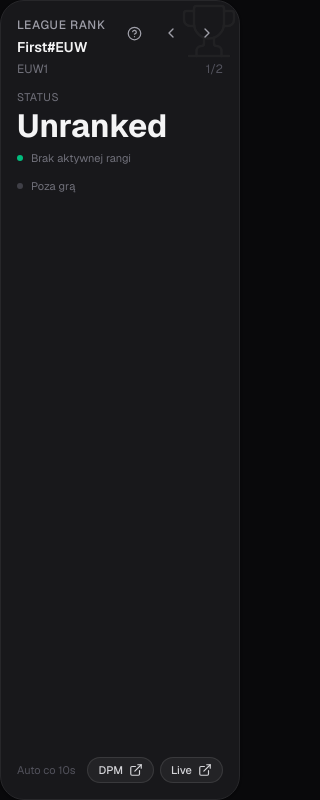
LolRankWidget › switches between multiple accounts
The width and height of the screenshot is (320, 800).
Expected: the heading "First#EUW" is shown, [17, 38, 88, 56]
Click the button named "Następne konto" at (207, 33), box [191, 17, 223, 49]
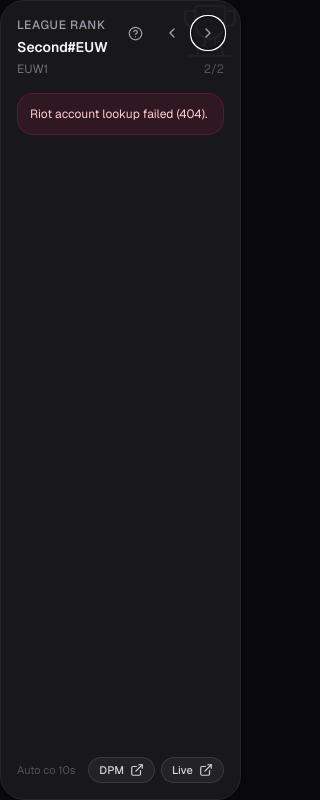
Result: the heading "Second#EUW" is shown at [17, 37, 108, 57]
Result: the text "Riot account lookup failed (404)." is shown at [17, 93, 224, 135]
Click the button named "Poprzednie konto" at (172, 33), box [156, 17, 188, 49]
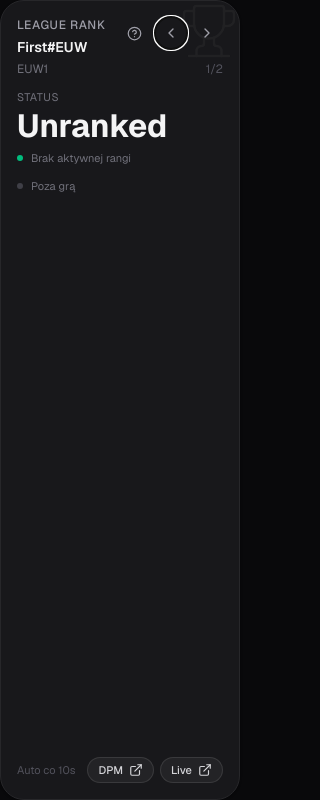
Result: the heading "First#EUW" is shown at [17, 38, 88, 56]
